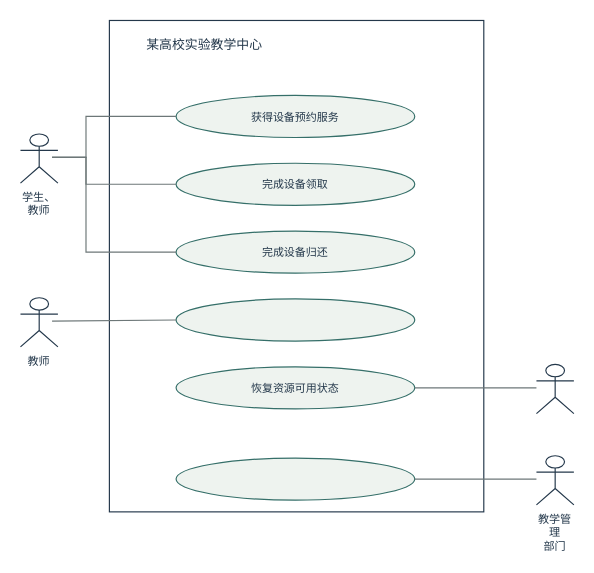
The diagram is 594 pixels wide and 573 high, and some of its shapes have lost their labels. The shapes that lost their labels are listed below. From the top down, each one's centre as x and y in pixels, then its label:
At [295,319]: "获得场地使用服务".
At [554,388]: "学校维修 支持岗位".
At [295,478]: "掌握资源利用情况".
